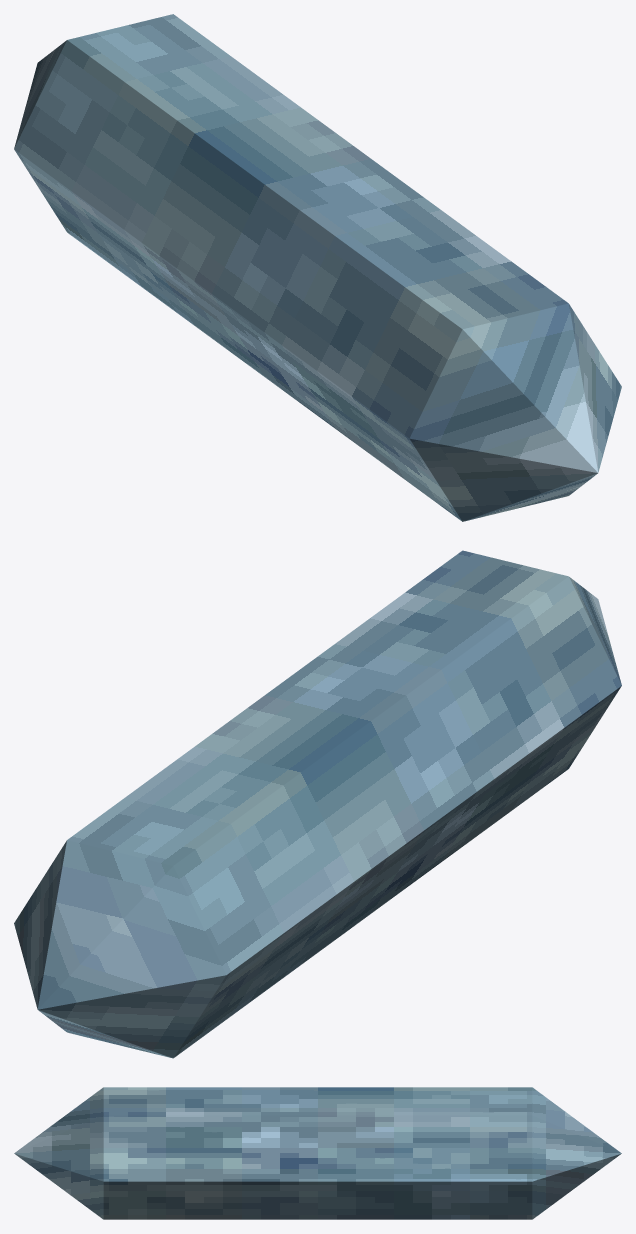
Rendered from mn_quartz.glb.
3 renders of one model, top to bottom at view 1: azimuth 30°, elevation 25°; view 2: azimuth 150°, elevation 25°; view 3: azimuth 270°, elevation 25°, orthographic. The views are drawn at different scales.
Visible parts, largest first — view 1: mn_quartz-col; view 2: mn_quartz-col; view 3: mn_quartz-col.
Boxes of the visible parts, left/top/right/bottom form: mn_quartz-col: left=14, top=14, right=621, bottom=521; mn_quartz-col: left=14, top=550, right=621, bottom=1058; mn_quartz-col: left=14, top=1087, right=621, bottom=1219.
Size of the model in its own units: 0.0331 by 0.0287 by 0.1512.
1 material, 1 textured.
